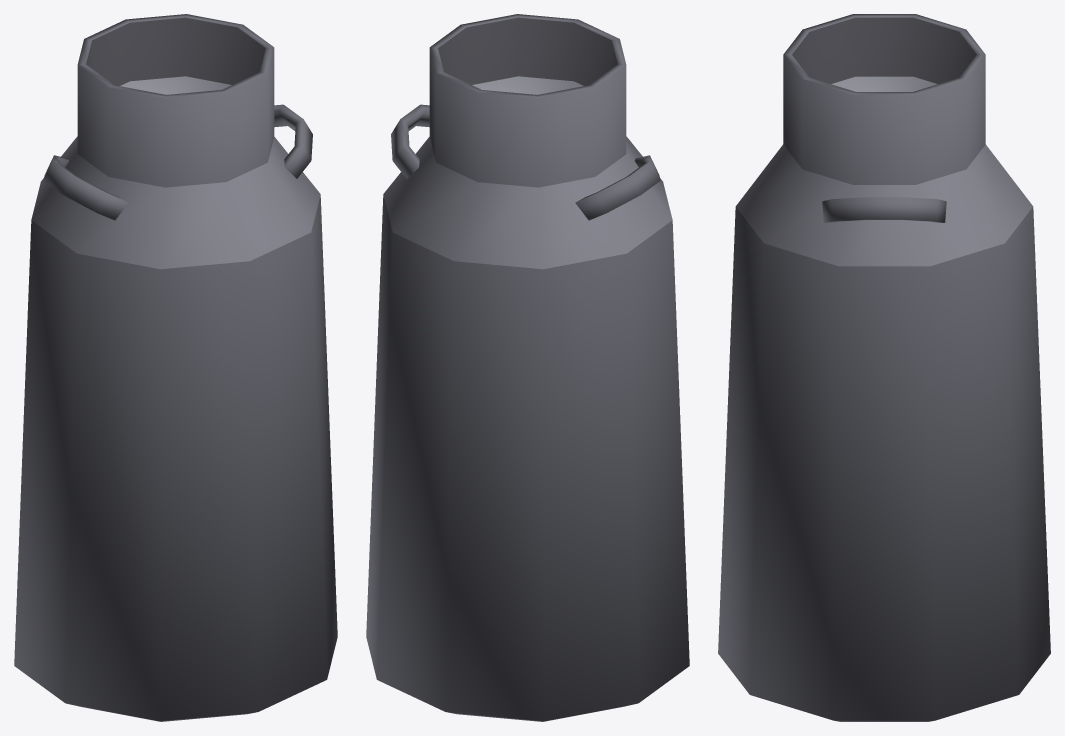
The model's file is Milk 2.glb.
3 renders of one model, left to right at view 1: azimuth 30°, elevation 25°; view 2: azimuth 150°, elevation 25°; view 3: azimuth 270°, elevation 25°, orthographic.
Visible parts, largest first — view 1: Milk 2; view 2: Milk 2; view 3: Milk 2.
Boxes of the visible parts, <box> form: Milk 2: <box>14,14,337,721</box>; Milk 2: <box>366,14,689,721</box>; Milk 2: <box>718,14,1050,721</box>.
Size of what is drawn, in the model's own units: 0.2803 by 0.5957 by 0.2947.
1 material, 1 textured.
